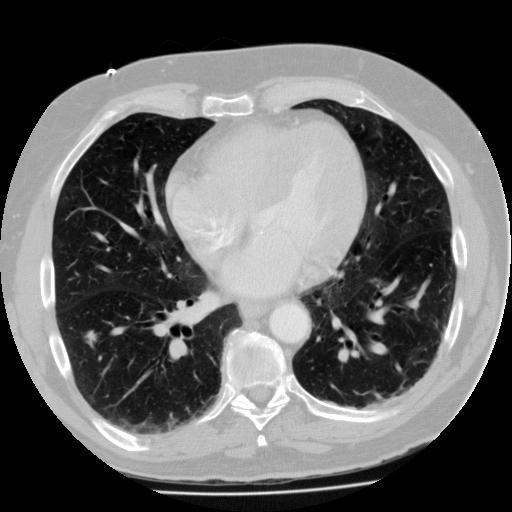nodule: (84, 329, 99, 344)
